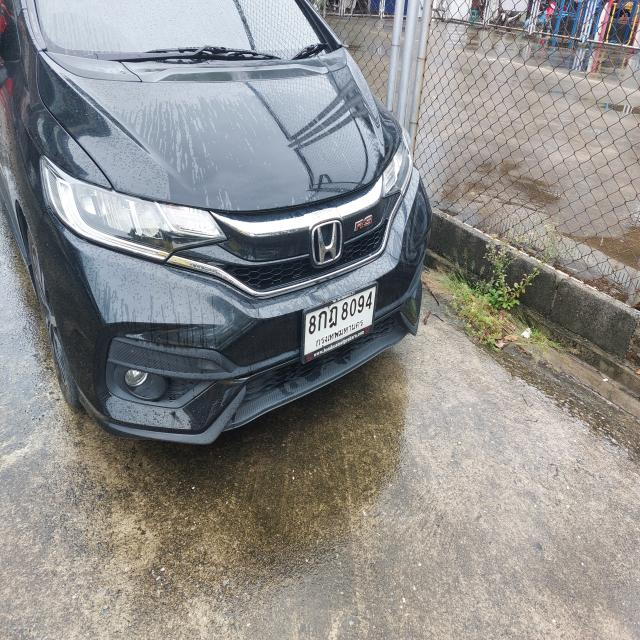license_plate: (297, 280, 380, 365)
